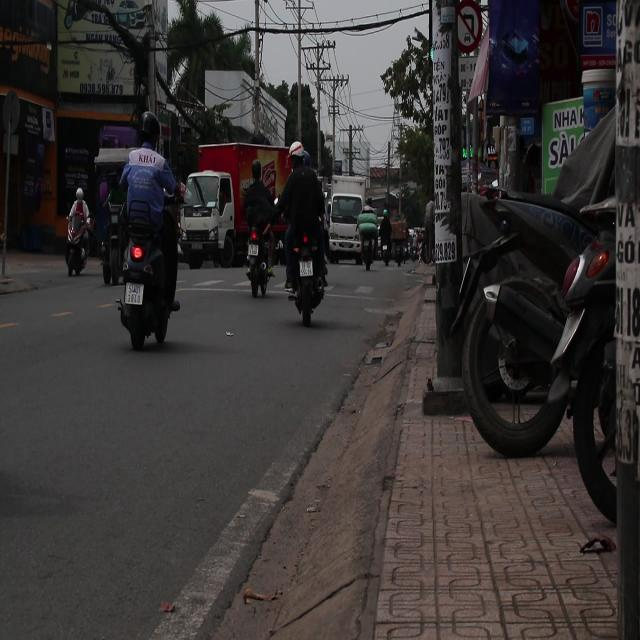motorbike: (115, 189, 181, 351), (278, 214, 332, 345), (60, 200, 104, 281), (244, 224, 273, 297), (351, 216, 379, 278), (375, 224, 393, 272)
truck: (182, 154, 264, 272), (327, 190, 363, 263)
